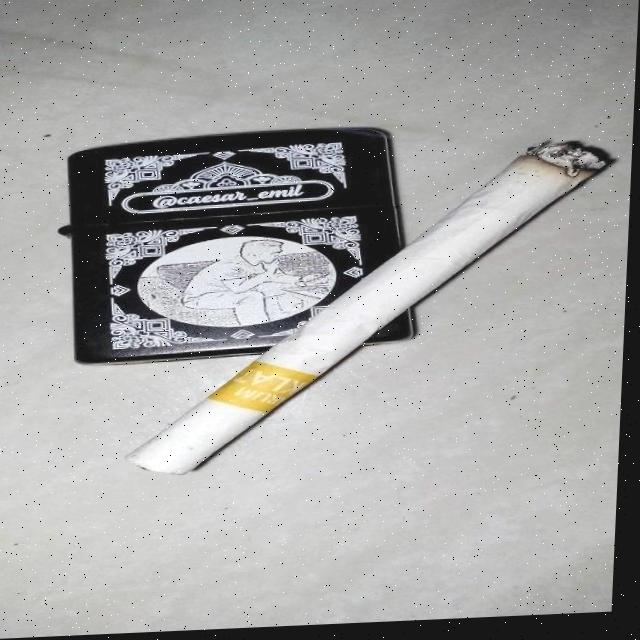cigarette: (128, 145, 615, 482)
